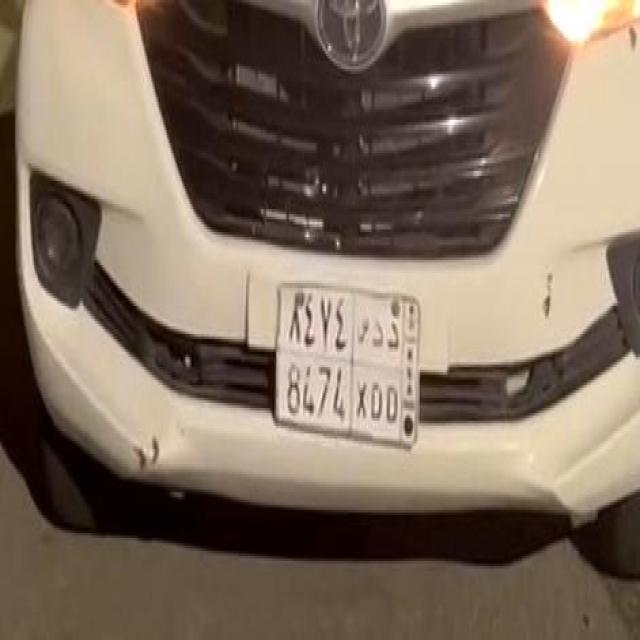Car-plate: (262, 264, 434, 467)
